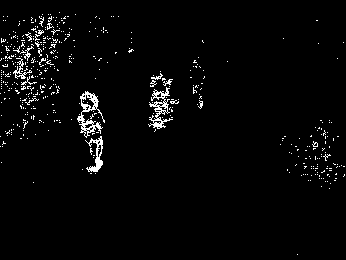person: (73, 89, 110, 175)
